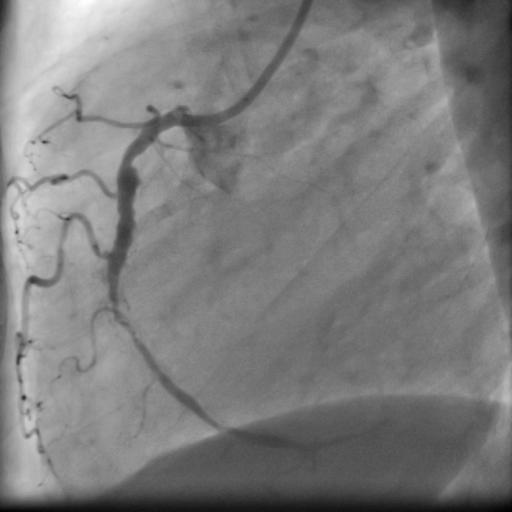Stenosis: (121, 147, 139, 167)
